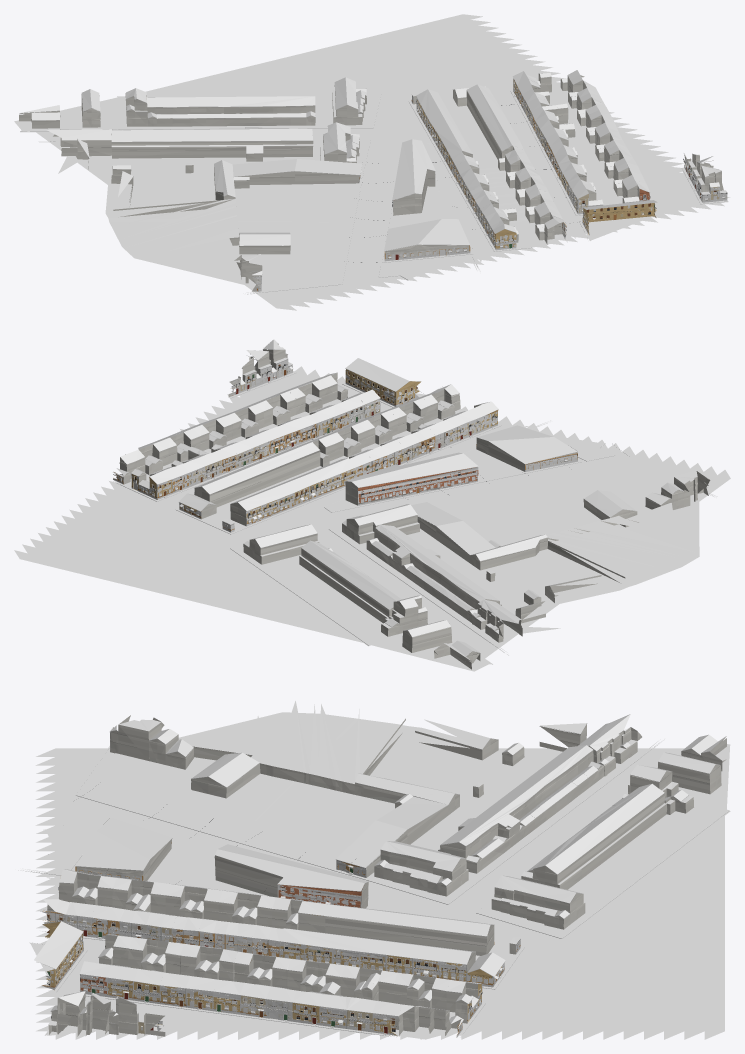
The model's file is zona_0_1.glb.
3 views of the same model, one above another, from view 1: azimuth 30°, elevation 25°; view 2: azimuth 150°, elevation 25°; view 3: azimuth 270°, elevation 25° (orthographic). The views are drawn at different scales.
Parts seen in each view (by area): view 1: z_calle_0_1, z_tejados_0_1, z_casas_0_1, z_casas_planas_0_1, z_suelo_0_1, z_fachadas_0_1; view 2: z_calle_0_1, z_tejados_0_1, z_casas_0_1, z_fachadas_0_1, z_casas_planas_0_1, z_suelo_0_1; view 3: z_calle_0_1, z_tejados_0_1, z_casas_0_1, z_fachadas_0_1, z_casas_planas_0_1, z_suelo_0_1.
Boxes of the visible parts, left/top/right/bottom form: z_calle_0_1: left=14, top=14, right=730, bottom=310; z_tejados_0_1: left=19, top=70, right=721, bottom=275; z_casas_0_1: left=19, top=74, right=722, bottom=289; z_casas_planas_0_1: left=60, top=89, right=727, bottom=291; z_suelo_0_1: left=345, top=91, right=585, bottom=276; z_fachadas_0_1: left=253, top=78, right=727, bottom=291; z_calle_0_1: left=14, top=366, right=730, bottom=671; z_tejados_0_1: left=112, top=339, right=707, bottom=660; z_casas_0_1: left=114, top=344, right=708, bottom=669; z_fachadas_0_1: left=113, top=355, right=708, bottom=532; z_casas_planas_0_1: left=222, top=357, right=709, bottom=642; z_suelo_0_1: left=158, top=423, right=628, bottom=545; z_calle_0_1: left=18, top=712, right=730, bottom=1039; z_tejados_0_1: left=34, top=714, right=726, bottom=1026; z_casas_0_1: left=42, top=718, right=726, bottom=1036; z_fachadas_0_1: left=40, top=727, right=520, bottom=1037; z_casas_planas_0_1: left=48, top=701, right=693, bottom=1036; z_suelo_0_1: left=46, top=802, right=546, bottom=1002.
Size of the model in its own units: 231 by 12.11 by 212.
